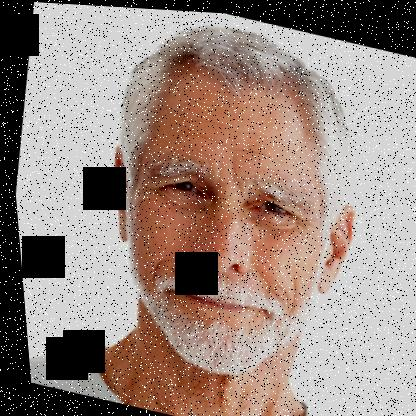Male: (71, 29, 387, 398)
